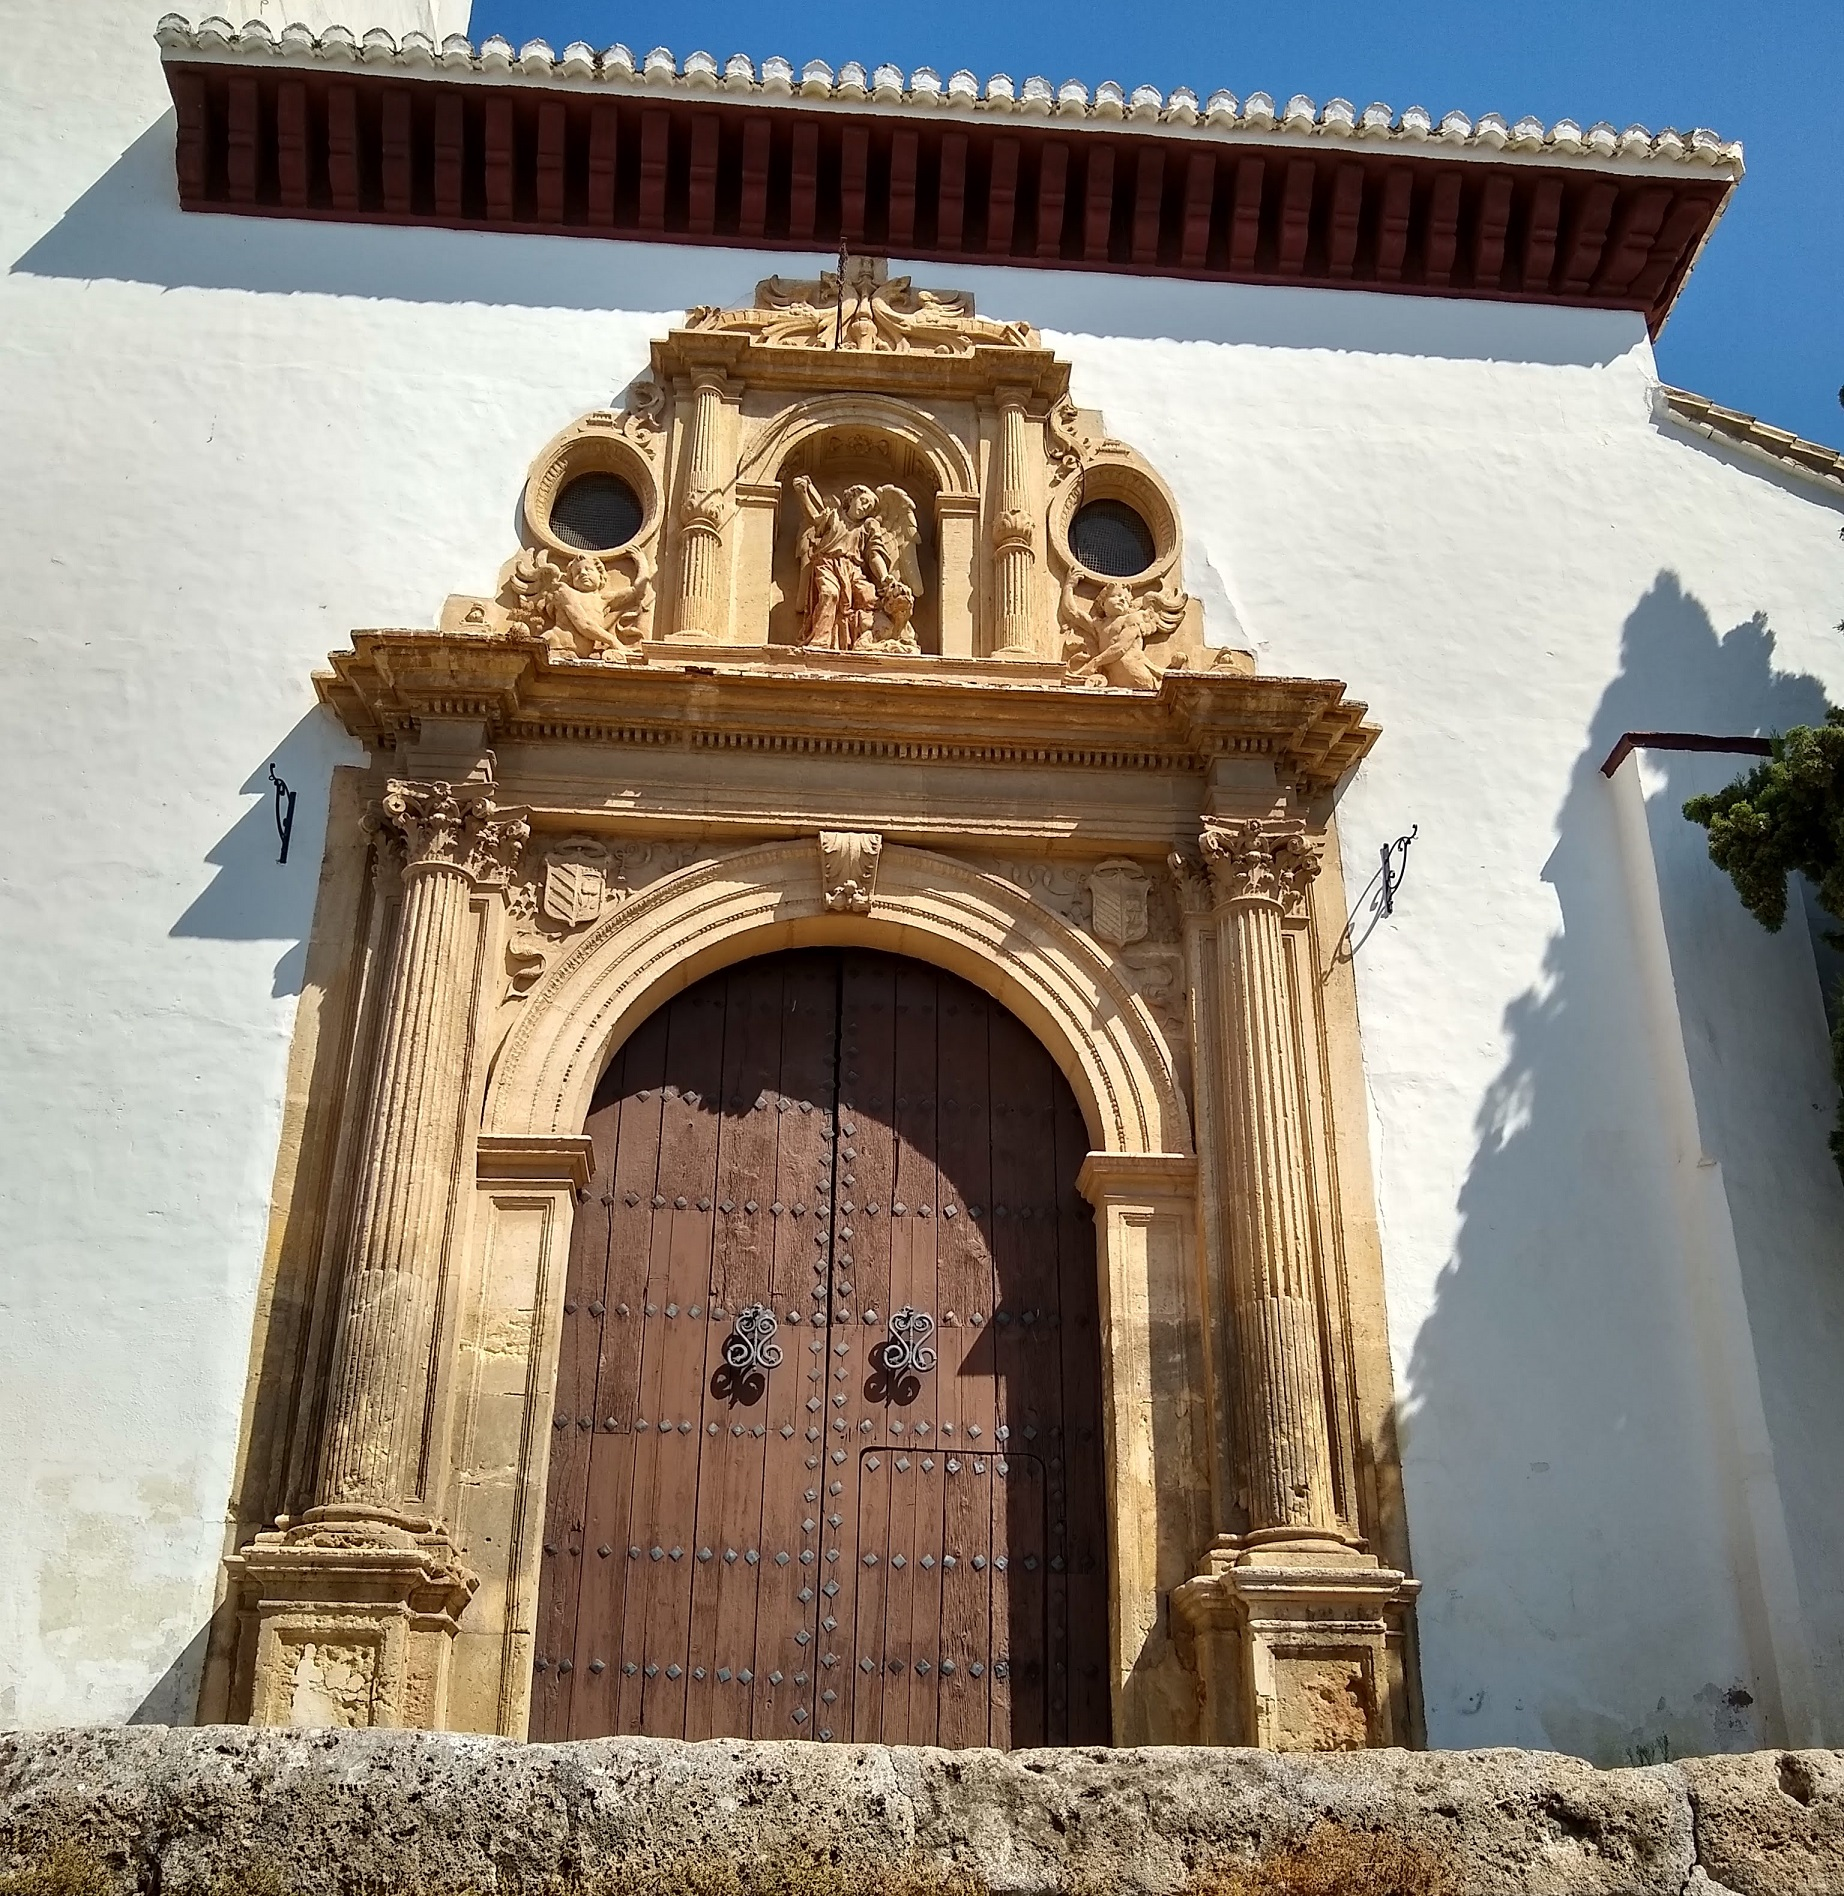arco-medio-punto: (544, 907, 1135, 1244), (765, 415, 958, 528)
ojo-de-buey: (520, 423, 665, 564), (1041, 455, 1190, 587)
